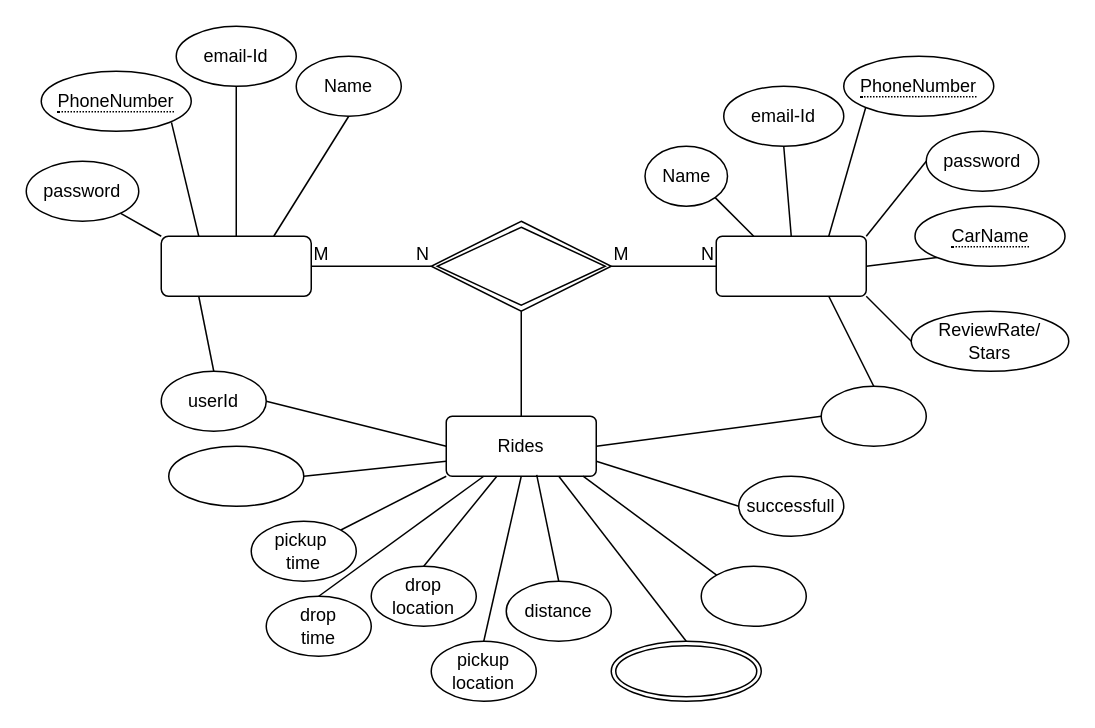
Some shapes in this 1095 by 728 pixel diagram are drawn without their labels. Each missing label, with the box of its shape:
BookingTime: (167, 445, 304, 506)
DriverId: (820, 385, 926, 446)
Drivers: (715, 235, 866, 296)
otp: (610, 640, 761, 701)
Passengers: (160, 235, 311, 296)
Price: (700, 565, 806, 626)
Travel Rides: (430, 220, 611, 311)
